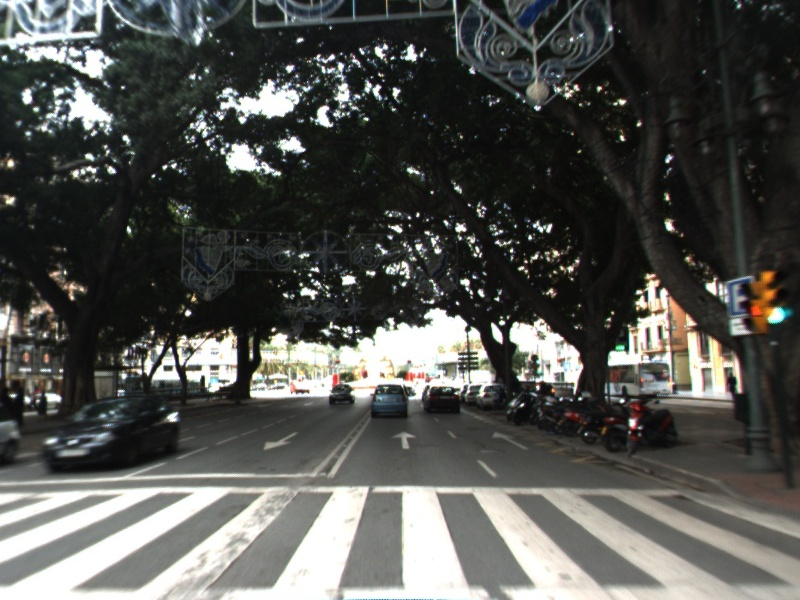STRAIGHT: (490, 429, 531, 452), (389, 429, 419, 451)
